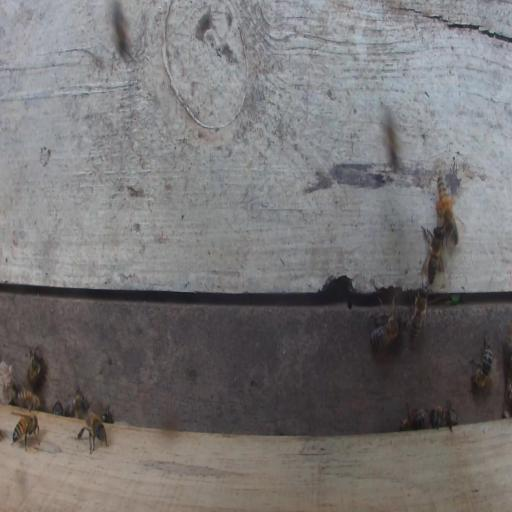bee: (434, 167, 456, 235), (421, 226, 445, 286), (468, 333, 493, 390), (77, 409, 109, 453), (406, 283, 428, 346), (370, 306, 400, 351), (11, 412, 40, 452), (115, 6, 132, 58), (399, 403, 430, 431), (429, 404, 459, 431), (26, 347, 43, 390), (13, 387, 41, 411), (72, 388, 89, 417), (52, 401, 63, 416)
